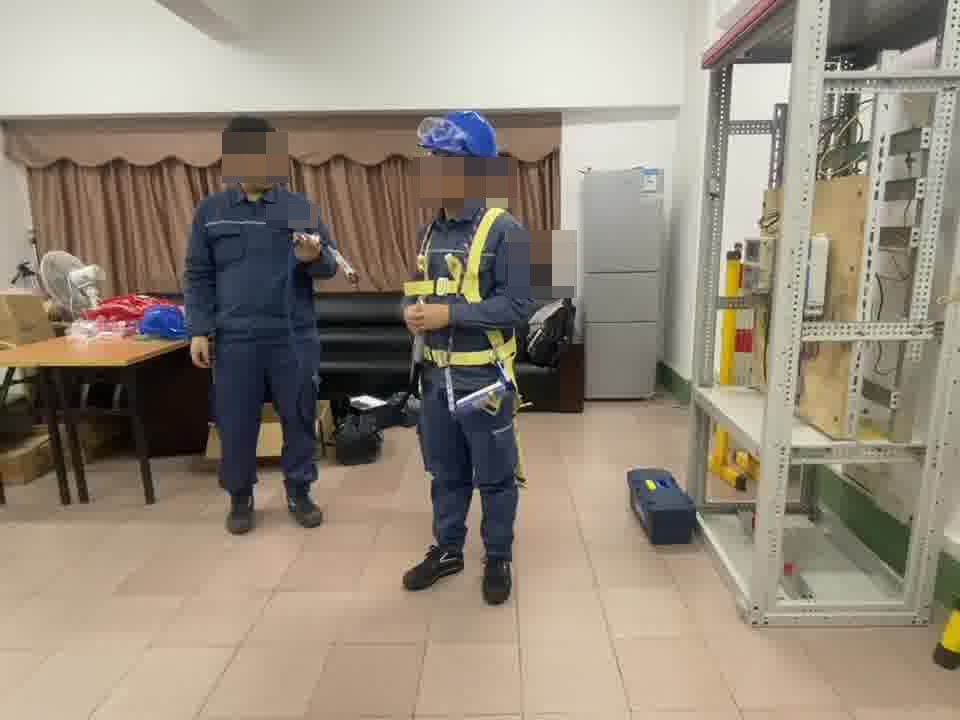downsuit: (420, 388, 524, 566), (210, 349, 324, 494)
halt: (419, 109, 501, 193)
hand: (411, 302, 450, 334), (292, 226, 324, 263), (185, 333, 216, 371)
inear: (446, 155, 484, 204)
noear: (223, 143, 249, 177)
person: (400, 105, 544, 592), (189, 113, 345, 525)
safebelt: (404, 200, 539, 490)
sleeve: (514, 246, 536, 276)
unhalt: (222, 114, 287, 191)
upsuit: (410, 196, 537, 372), (192, 185, 337, 337)
